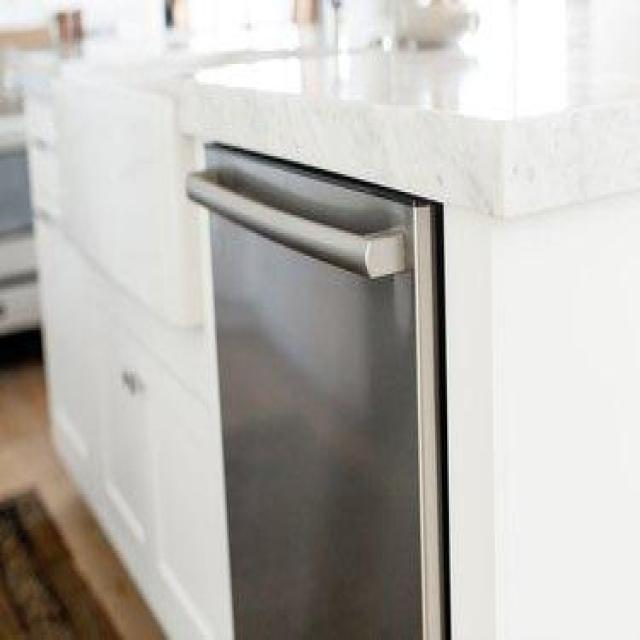dishwasher: (193, 123, 459, 640)
